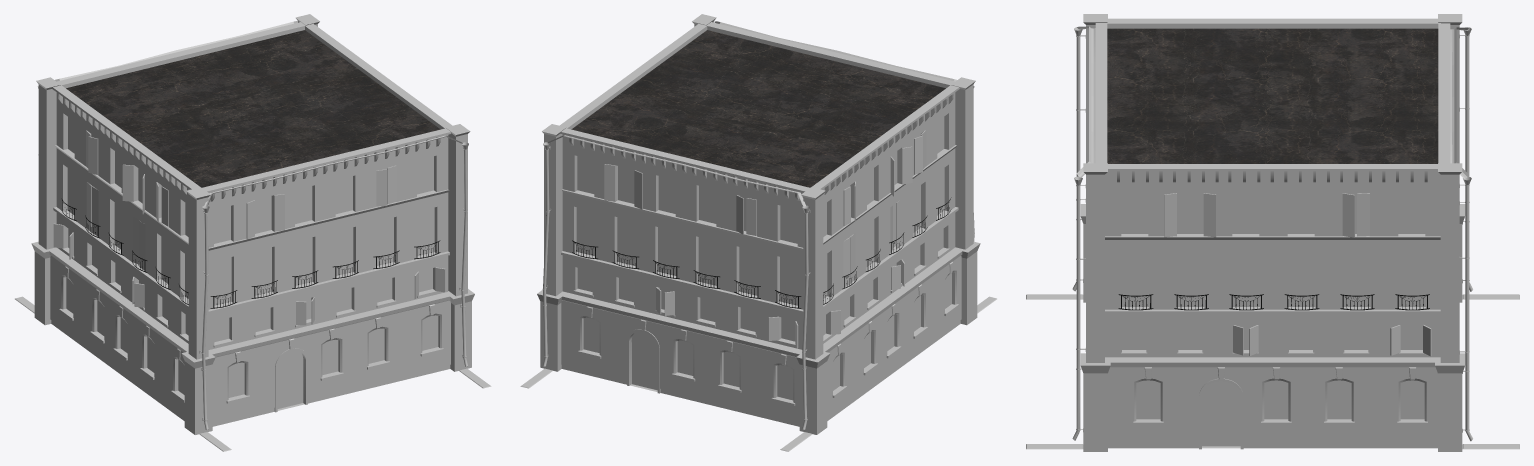
Rendered from Euro_v1_4.FBX.
3 renders of one model, left to right at view 1: azimuth 30°, elevation 25°; view 2: azimuth 150°, elevation 25°; view 3: azimuth 270°, elevation 25°, orthographic. The views are drawn at different scales.
Parts seen in each view (by area): view 1: Euro_v1_4, Euro_v1_4_roof_floor, Euro_v1_4_detail, Forged_fence_v1; view 2: Euro_v1_4, Euro_v1_4_roof_floor, Euro_v1_4_detail, Forged_fence_v1; view 3: Euro_v1_4, Euro_v1_4_roof_floor, Euro_v1_4_detail, Forged_fence_v1.
Boxes of the visible parts, x1,y1,x2,y2 form: Euro_v1_4: (31, 14, 474, 434); Euro_v1_4_roof_floor: (66, 30, 440, 187); Euro_v1_4_detail: (15, 86, 491, 451); Forged_fence_v1: (61, 198, 440, 308); Euro_v1_4: (537, 14, 980, 434); Euro_v1_4_roof_floor: (571, 30, 945, 187); Euro_v1_4_detail: (520, 86, 996, 451); Forged_fence_v1: (572, 197, 951, 308); Euro_v1_4: (1076, 14, 1468, 451); Euro_v1_4_roof_floor: (1107, 28, 1438, 163); Euro_v1_4_detail: (1026, 27, 1519, 449); Forged_fence_v1: (1118, 294, 1429, 310).
Size of the model in its own units: 19.95 by 16.05 by 25.71.
